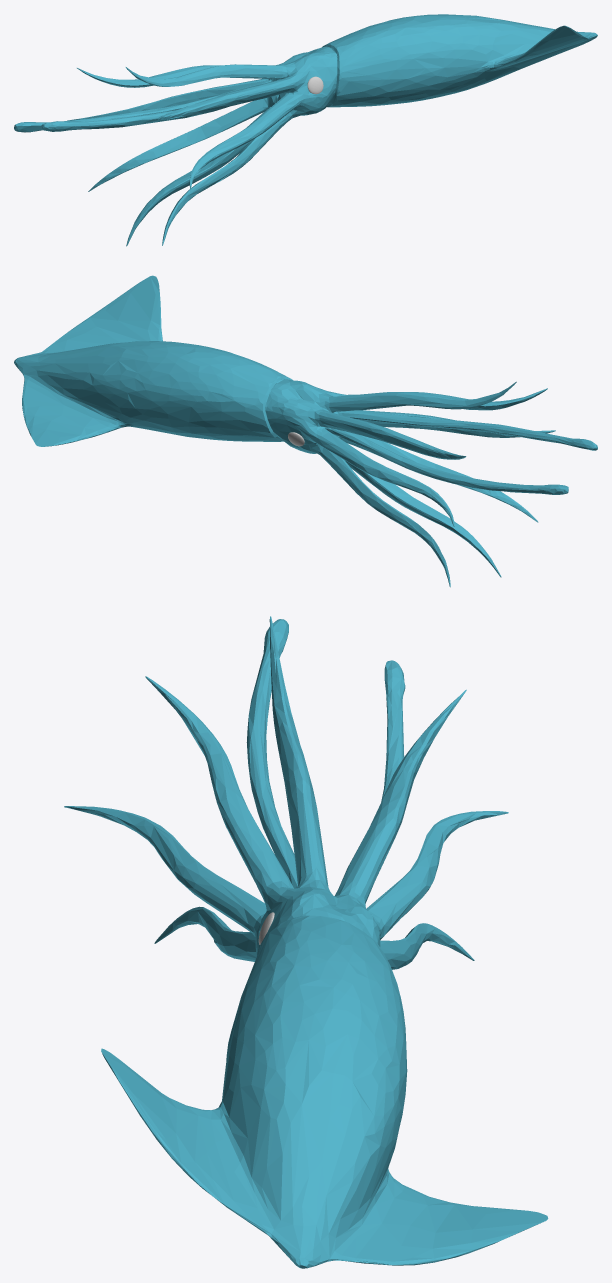
The model's file is squid.obj.
3 views of the same model, one above another, from view 1: azimuth 30°, elevation 25°; view 2: azimuth 150°, elevation 25°; view 3: azimuth 270°, elevation 25° (orthographic). The views are drawn at different scales.
Parts seen in each view (by area): view 1: group_0_5157063; view 2: group_0_5157063; view 3: group_0_5157063.
Part boxes in pixels (<box>): group_0_5157063: <box>14,14,597,246</box>; group_0_5157063: <box>14,275,597,587</box>; group_0_5157063: <box>64,616,548,1268</box>.
Size of the model in its own units: 60.3 by 19.23 by 22.59.
